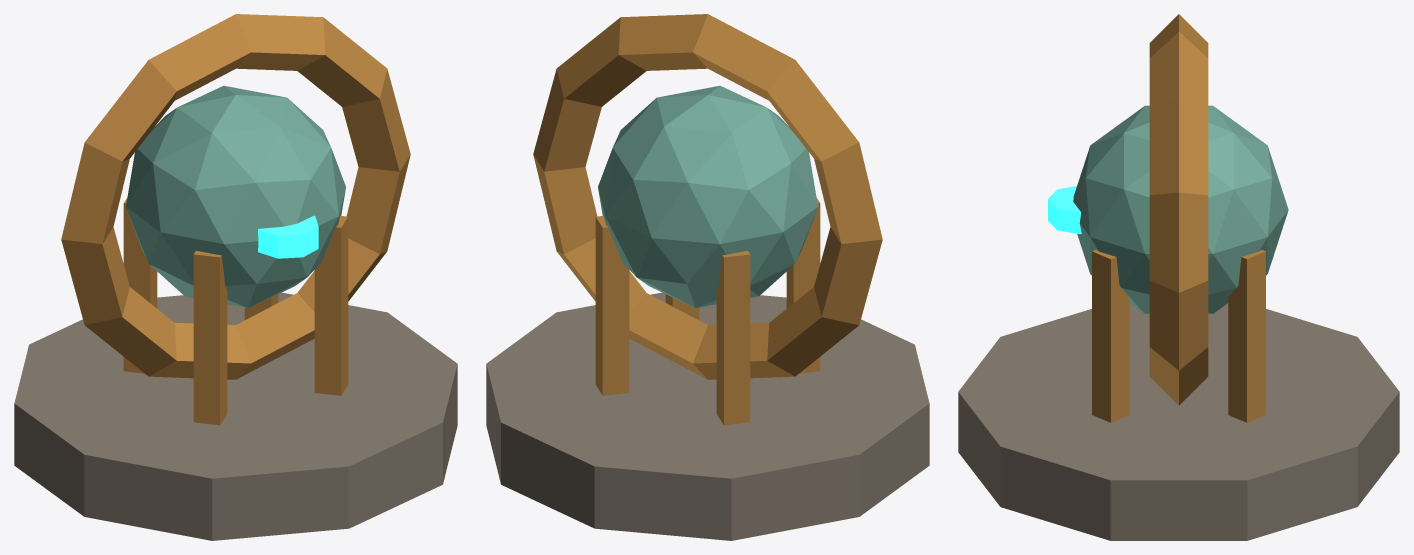
Rendered from artifact.glb.
The picture shows the model from 3 angles, left to right: view 1: azimuth 30°, elevation 25°; view 2: azimuth 150°, elevation 25°; view 3: azimuth 270°, elevation 25°; orthographic projection. The views are drawn at different scales.
Parts seen in each view (by area): view 1: RelicBase, RelicRing, RelicOrb, Claw.002, Claw.003, Claw.001, RelicCore; view 2: RelicBase, RelicRing, RelicOrb, Claw.001, Claw, Claw.002; view 3: RelicBase, RelicRing, RelicOrb, Claw, Claw.003, RelicCore.
Part boxes in pixels (left/top/right/bottom): RelicBase: left=14, top=292, right=457, bottom=540; RelicRing: left=61, top=14, right=410, bottom=379; RelicOrb: left=126, top=85, right=345, bottom=307; Claw.002: left=193, top=250, right=227, bottom=425; Claw.003: left=314, top=216, right=348, bottom=395; Claw.001: left=123, top=198, right=157, bottom=373; RelicCore: left=258, top=215, right=318, bottom=258; RelicBase: left=486, top=292, right=929, bottom=540; RelicRing: left=533, top=14, right=882, bottom=379; RelicOrb: left=598, top=85, right=817, bottom=307; Claw.001: left=716, top=250, right=750, bottom=425; Claw: left=595, top=216, right=629, bottom=395; Claw.002: left=786, top=198, right=820, bottom=373; RelicBase: left=958, top=303, right=1399, bottom=540; RelicRing: left=1149, top=14, right=1208, bottom=405; RelicOrb: left=1073, top=105, right=1288, bottom=313; Claw: left=1228, top=250, right=1265, bottom=422; Claw.003: left=1092, top=250, right=1129, bottom=422; RelicCore: left=1048, top=186, right=1081, bottom=234.
Size of the model in its own units: 3.14 by 3.47 by 3.3.
